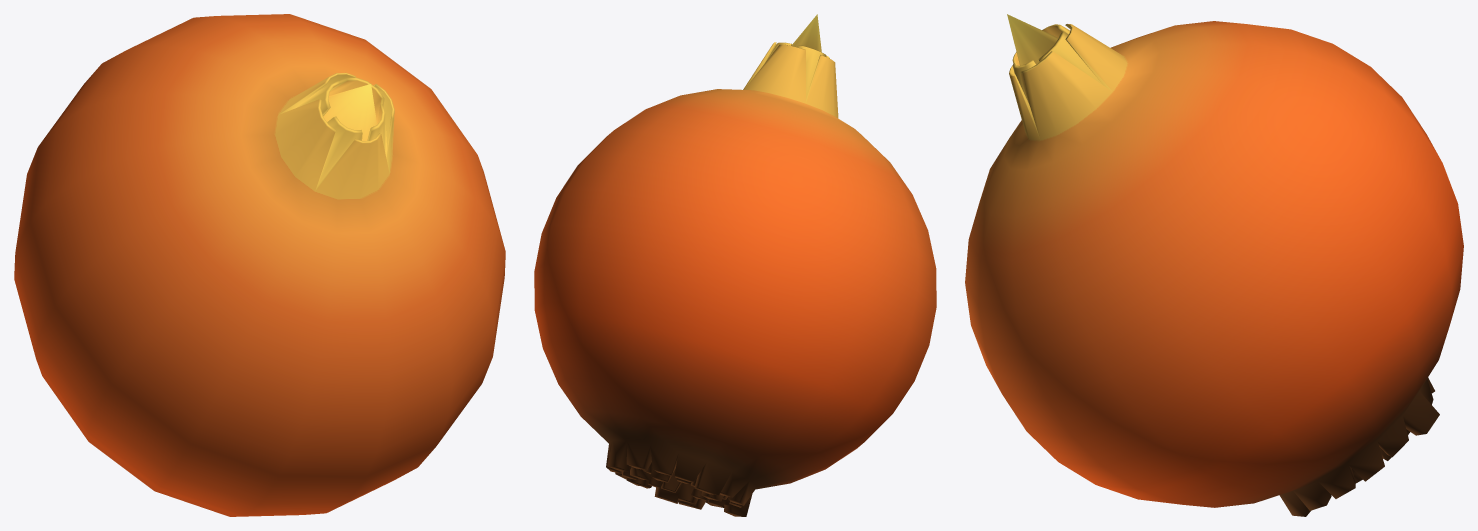
The model's file is Onion.fbx.
3 views of the same model, side by side, from view 1: azimuth 30°, elevation 25°; view 2: azimuth 150°, elevation 25°; view 3: azimuth 270°, elevation 25° (orthographic). The views are drawn at different scales.
Visible parts, largest first — view 1: Onion; view 2: Onion; view 3: Onion.
Boxes of the visible parts, x1,y1,x2,y2 form: Onion: (14,14,505,516); Onion: (534,14,936,516); Onion: (965,14,1463,516).
Size of the model in its own units: 398 by 448 by 413.
